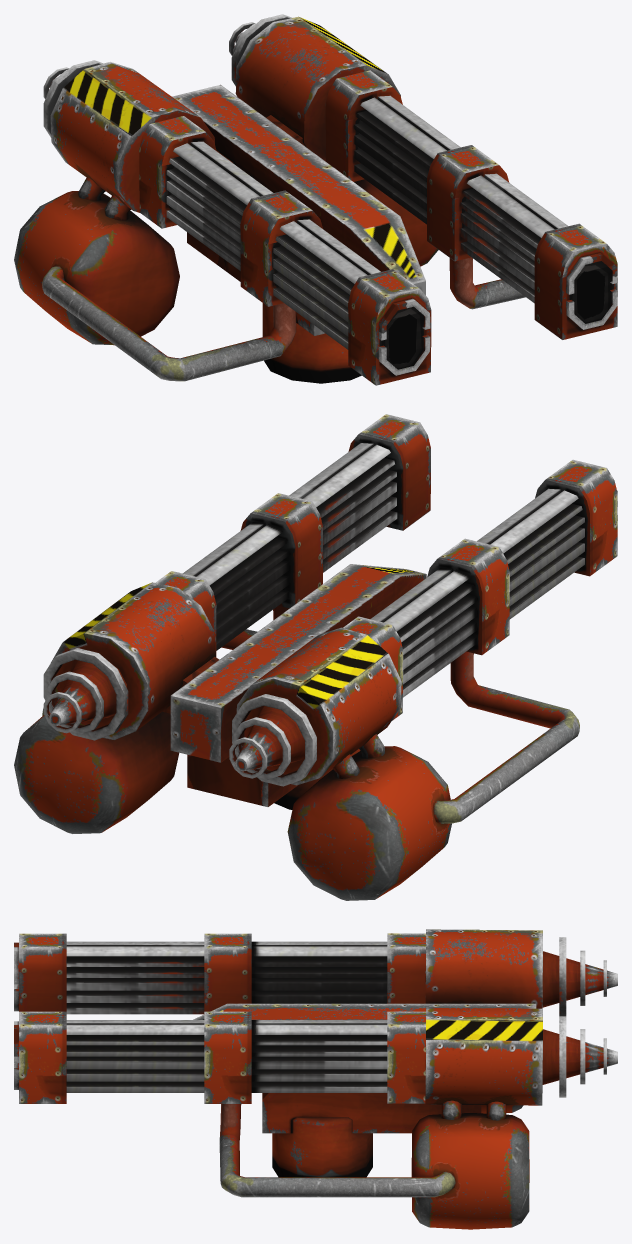
Rendered from Weapon.FBX.
The picture shows the model from 3 angles, top to bottom: view 1: azimuth 30°, elevation 25°; view 2: azimuth 150°, elevation 25°; view 3: azimuth 270°, elevation 25°; orthographic projection. The views are drawn at different scales.
Visible parts, largest first — view 1: Weapon; view 2: Weapon; view 3: Weapon.
Boxes of the visible parts, <box> form: Weapon: <box>14,14,617,385</box>; Weapon: <box>14,414,617,900</box>; Weapon: <box>14,929,617,1229</box>.
Size of the model in its own units: 41.84 by 21.31 by 60.29.
